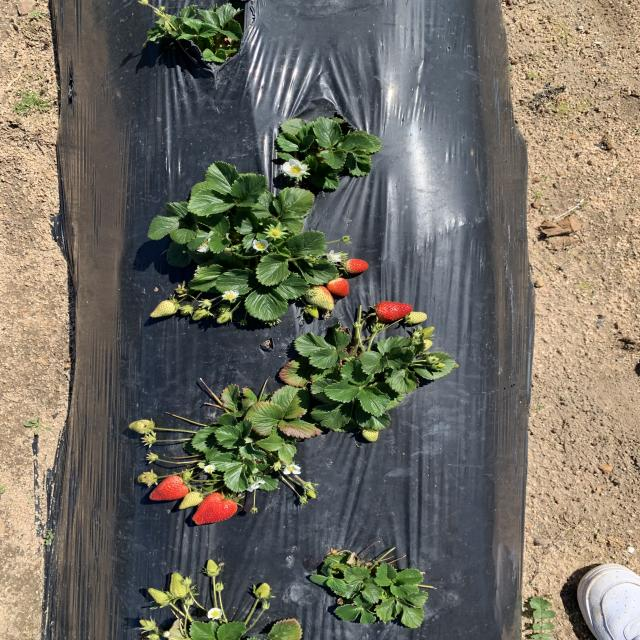unripe: (192, 494, 238, 524), (150, 475, 190, 501), (374, 302, 414, 321), (344, 258, 369, 274), (327, 278, 349, 296)
